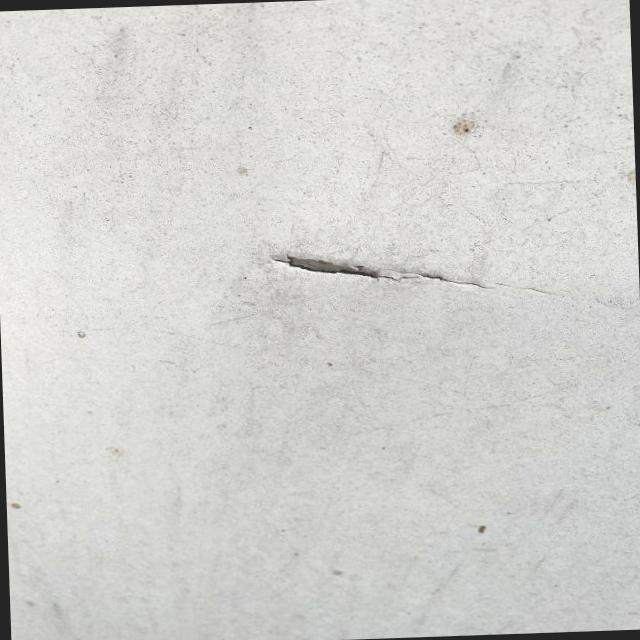crack: (267, 232, 455, 292)
